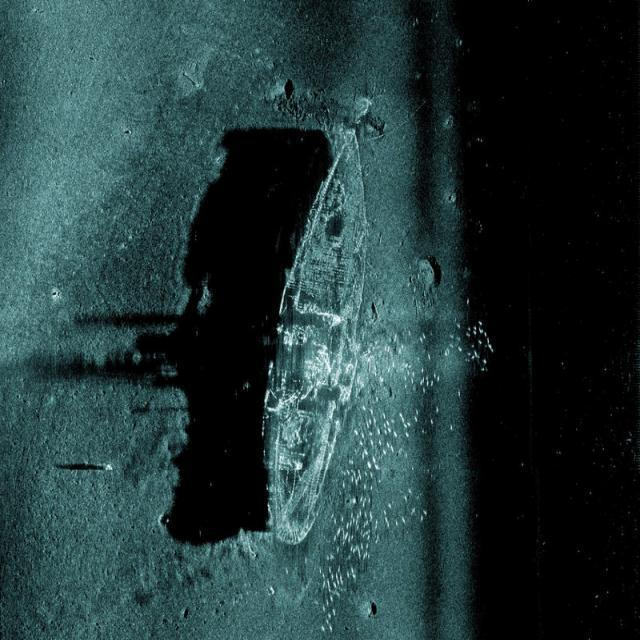shipwreck: (254, 121, 378, 548)
